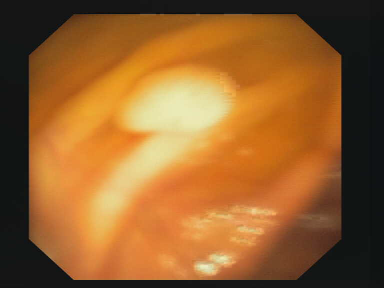polyp: (115, 52, 256, 153)
